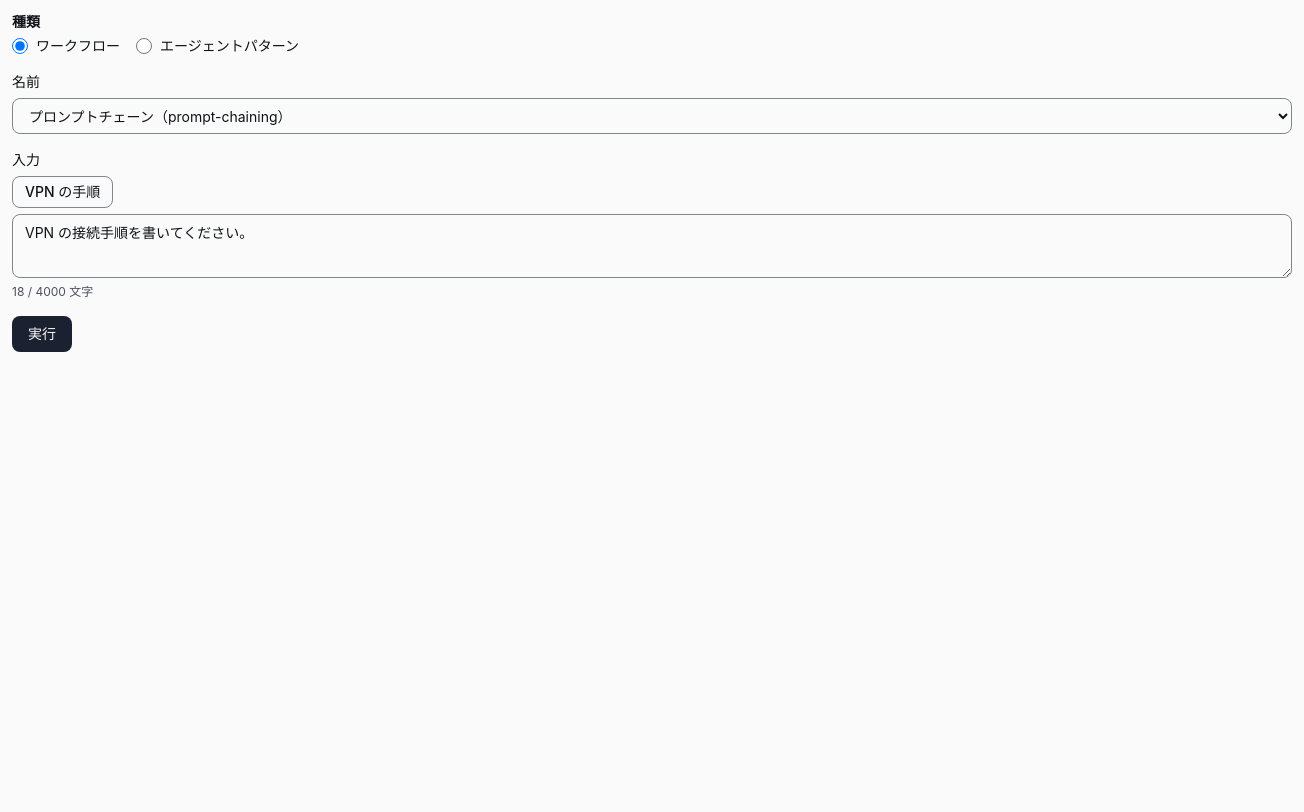
Test: WorkflowPanel run › posts the kind, name and task to /api/workflows without options
Select "ルーティング（routing）" in the dropdown labelled "名前" at point(652, 116), box [12, 98, 1292, 134]
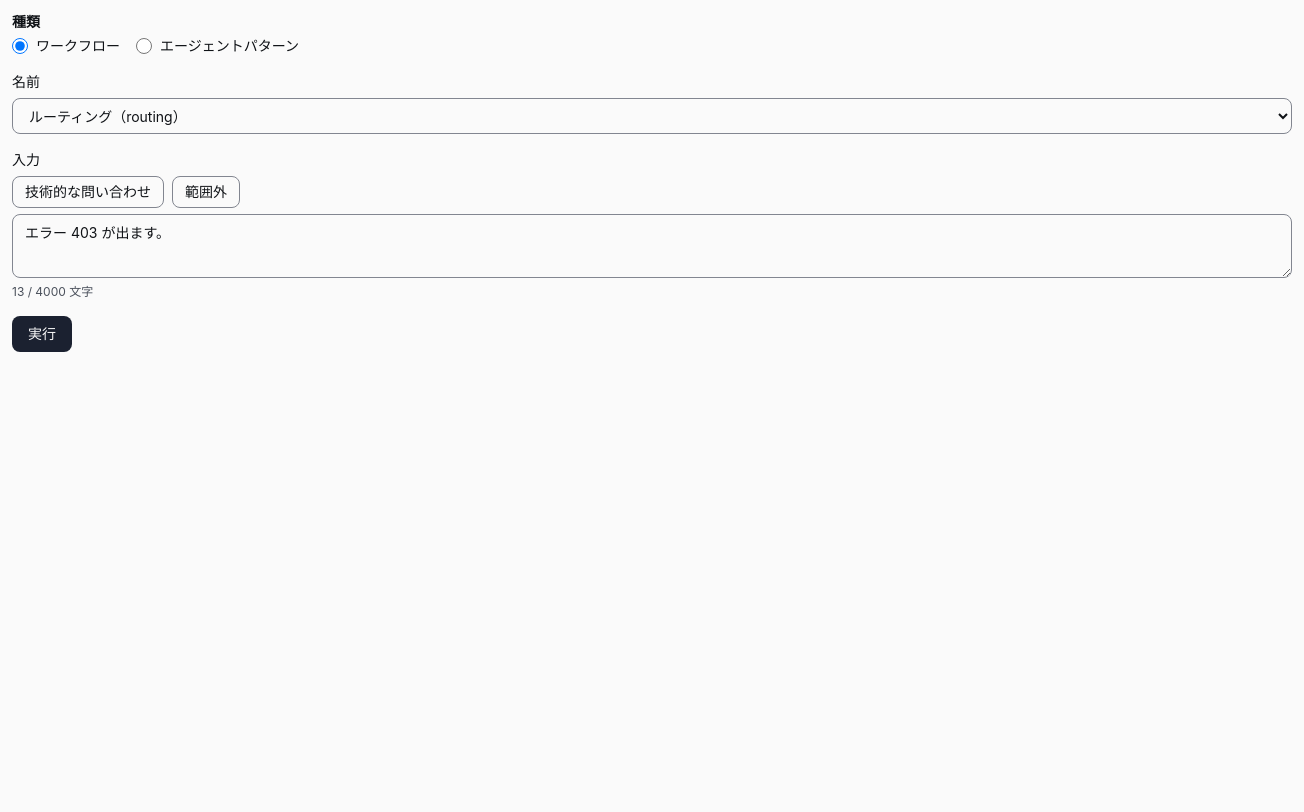
Click the button "実行".
click(42, 334)  # box [12, 316, 72, 352]
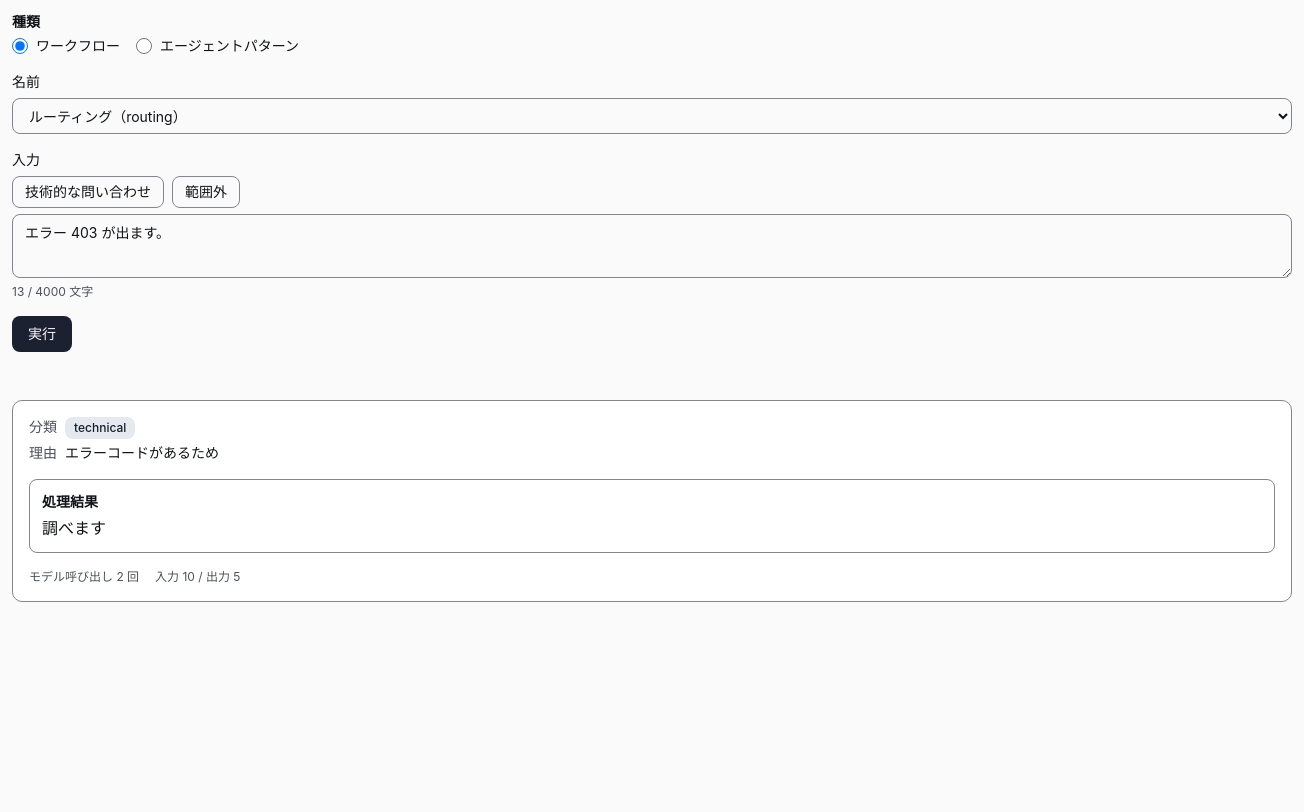
Now the element named "実行結果" is shown, box [12, 400, 1292, 602]
